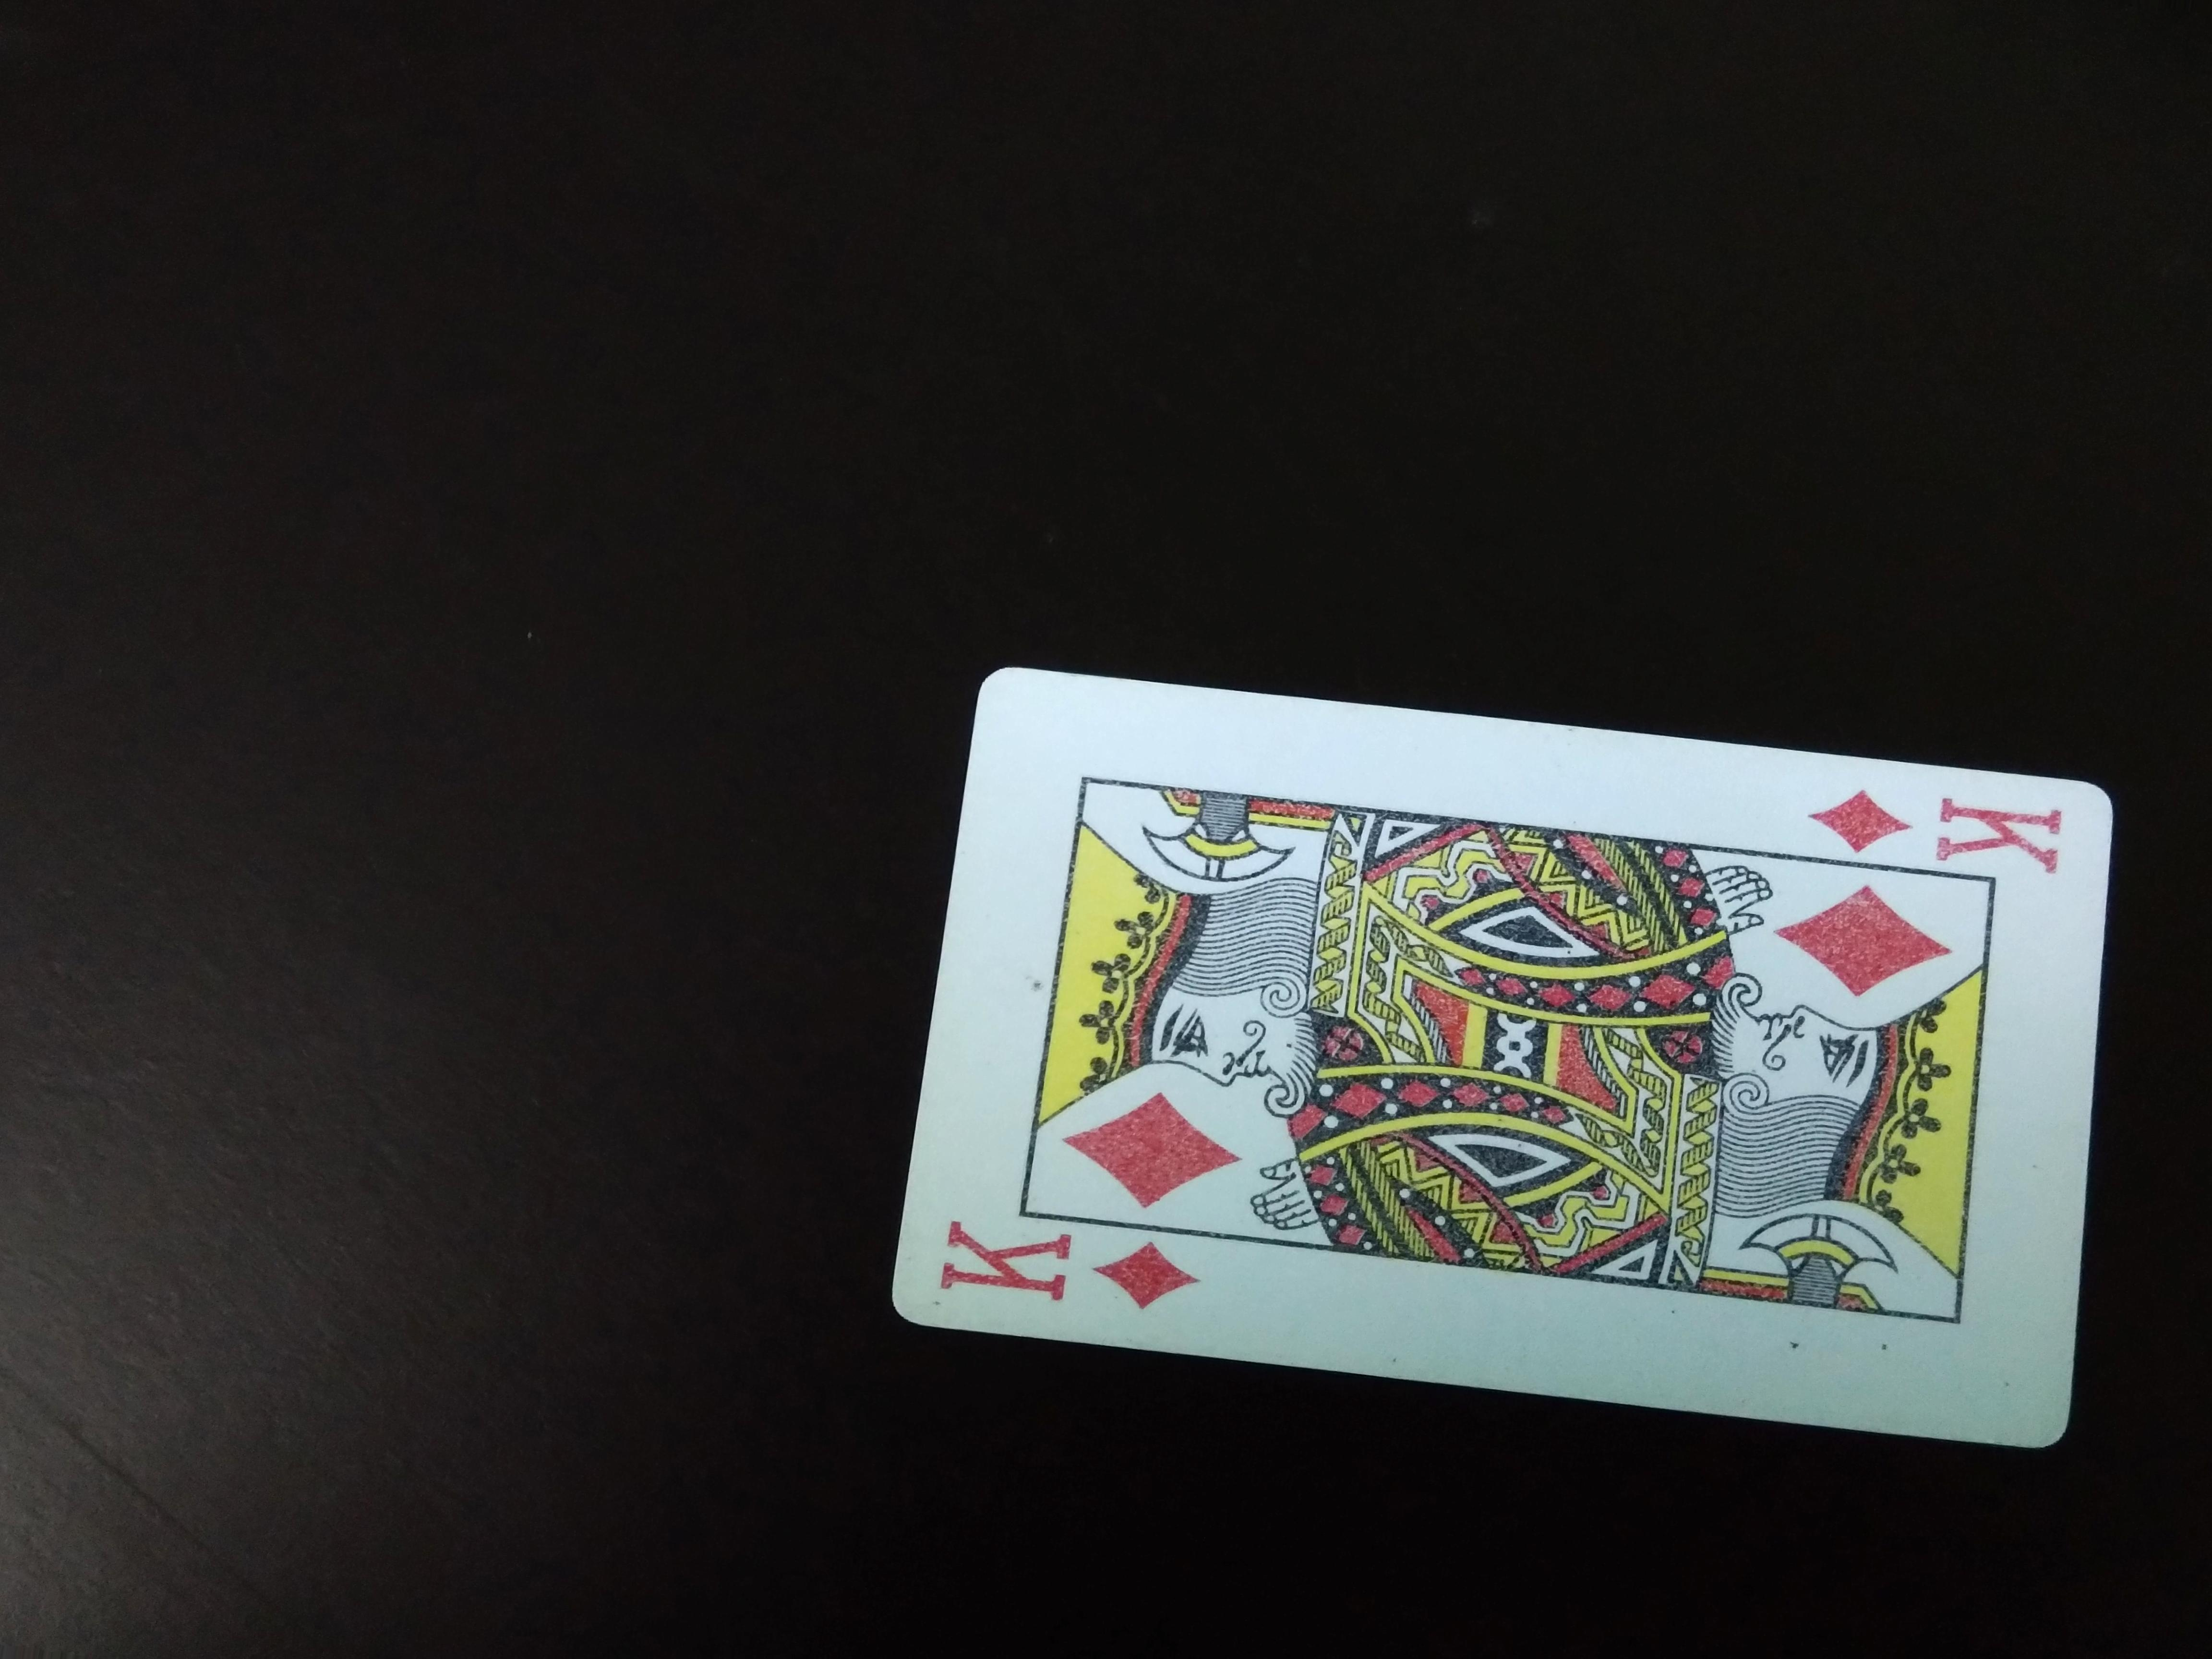KD: (944, 1215, 1186, 1312)
